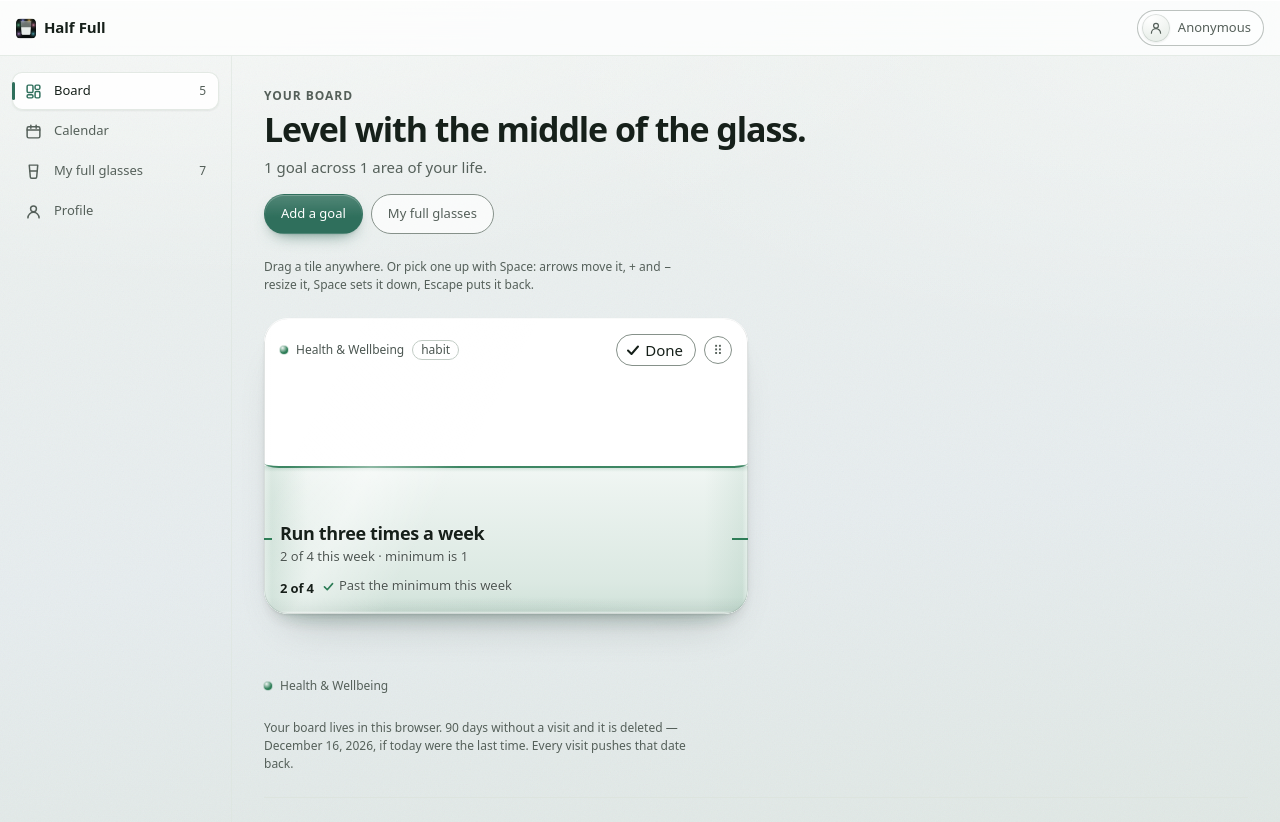
it: the route table › still opens the shelf from the board’s own button, and comes back
The width and height of the screenshot is (1280, 822).
What coordinates should you click on to do the following:
click the button "My full glasses"
I would click on:
 (432, 214)
Its box is [371,194,494,234].
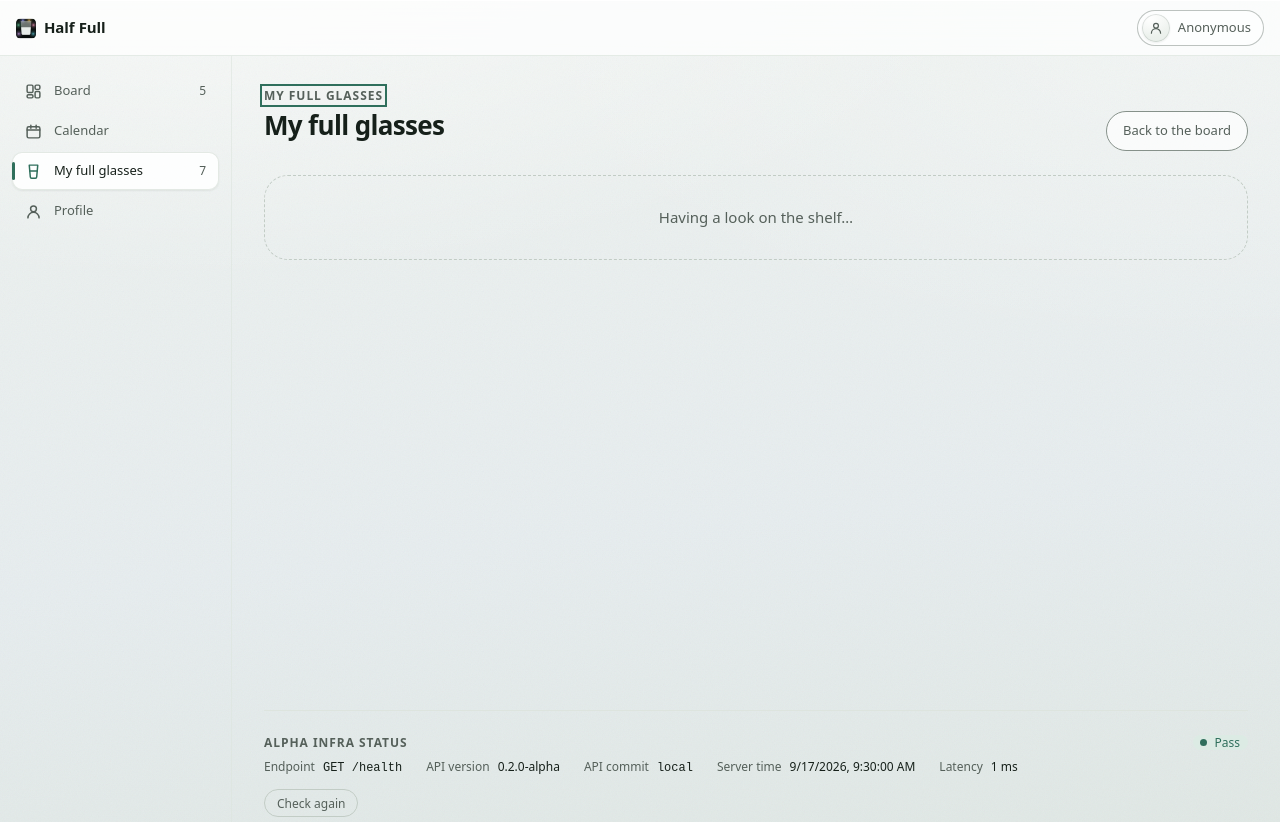
Expected: the element "My full glasses" is shown, [264,111,1248,260]
Expected: the text "Run three times a week" is gone
What coordinates should you click on to do the following:
click the button "Back to the board"
I would click on:
 (1177, 131)
Its box is [1106,111,1248,151].
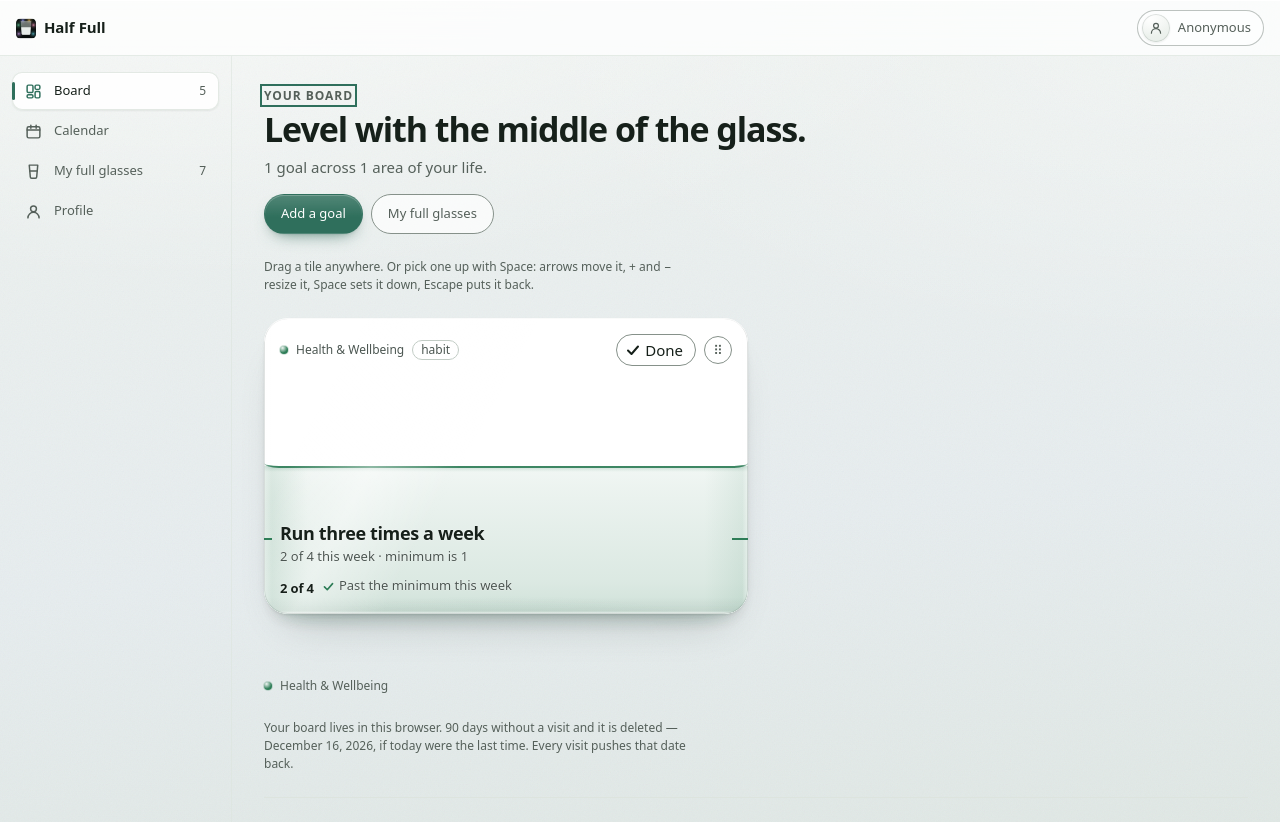
Expected: the text "Run three times a week" is shown, [280,522,484,545]
